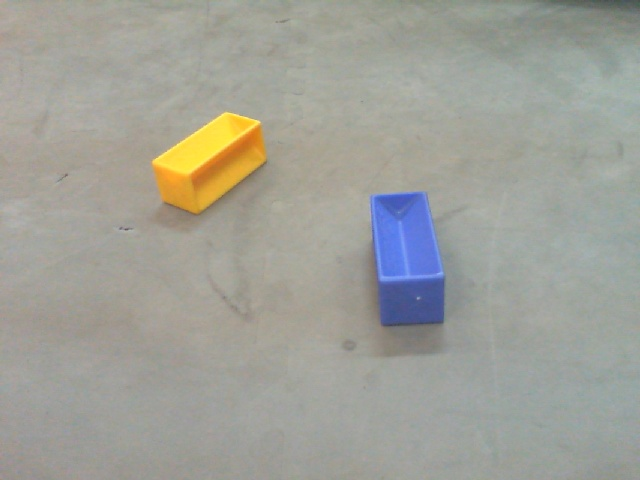BlueSample: (366, 189, 449, 329)
YellowSample: (150, 108, 271, 220)
